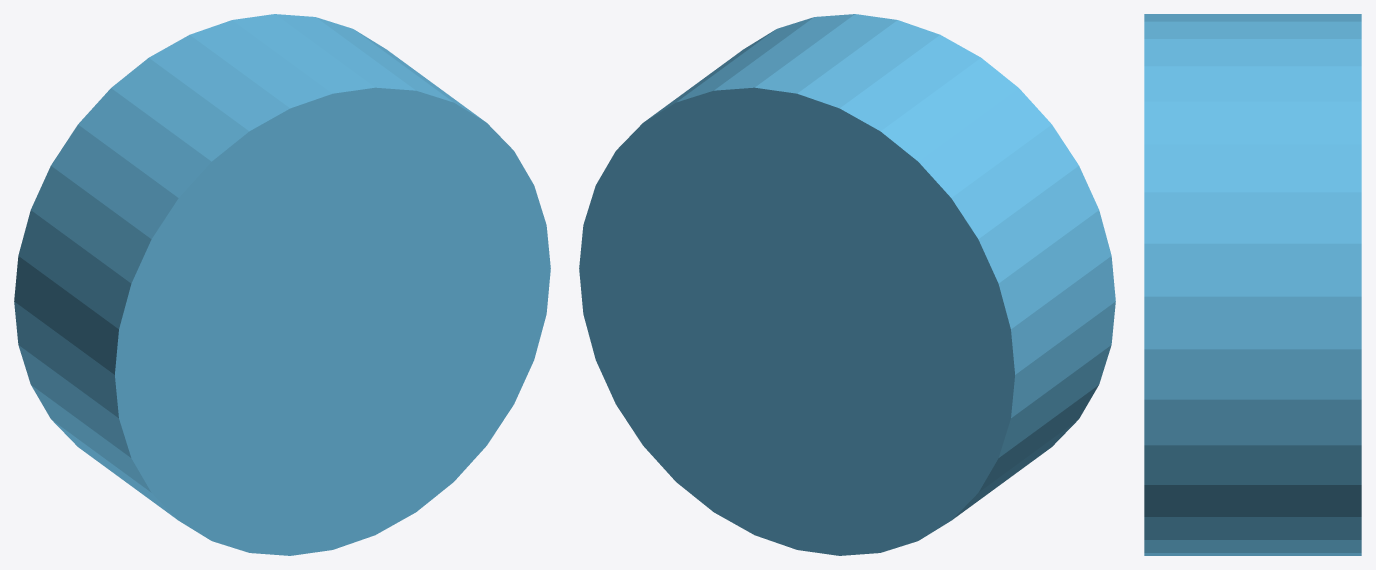
Rendered from disc_b.glb.
3 renders of one model, left to right at view 1: azimuth 30°, elevation 25°; view 2: azimuth 150°, elevation 25°; view 3: azimuth 270°, elevation 25°, orthographic. The views are drawn at different scales.
Visible parts, largest first — view 1: disc_b.glb; view 2: disc_b.glb; view 3: disc_b.glb.
Part boxes in pixels (x1=…): disc_b.glb: x1=14, y1=14, x2=550, y2=555; disc_b.glb: x1=579, y1=14, x2=1115, y2=555; disc_b.glb: x1=1144, y1=14, x2=1361, y2=555.
Size of the model in its own units: 0.04 by 0.04 by 0.016.
